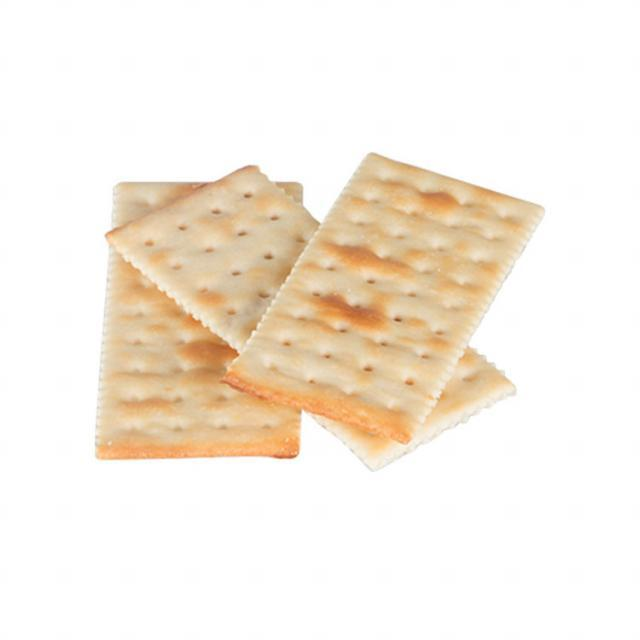Cracker: (114, 162, 518, 472), (237, 160, 541, 462), (91, 160, 303, 472)
